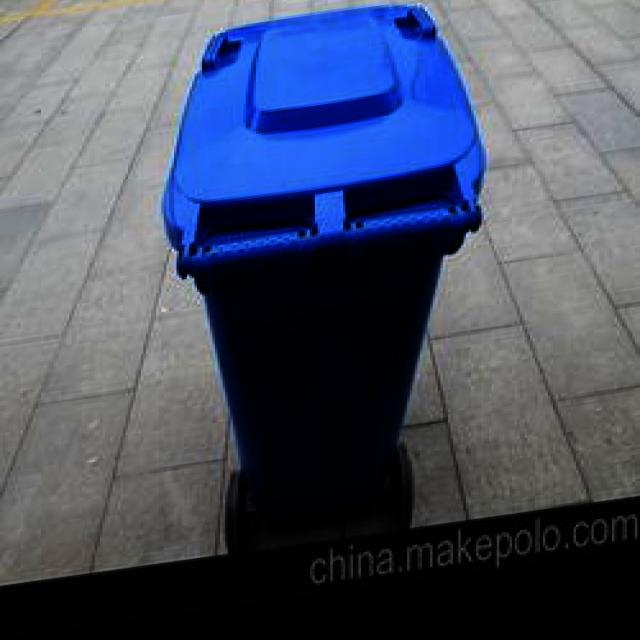garbage_bin: (159, 1, 481, 548)
